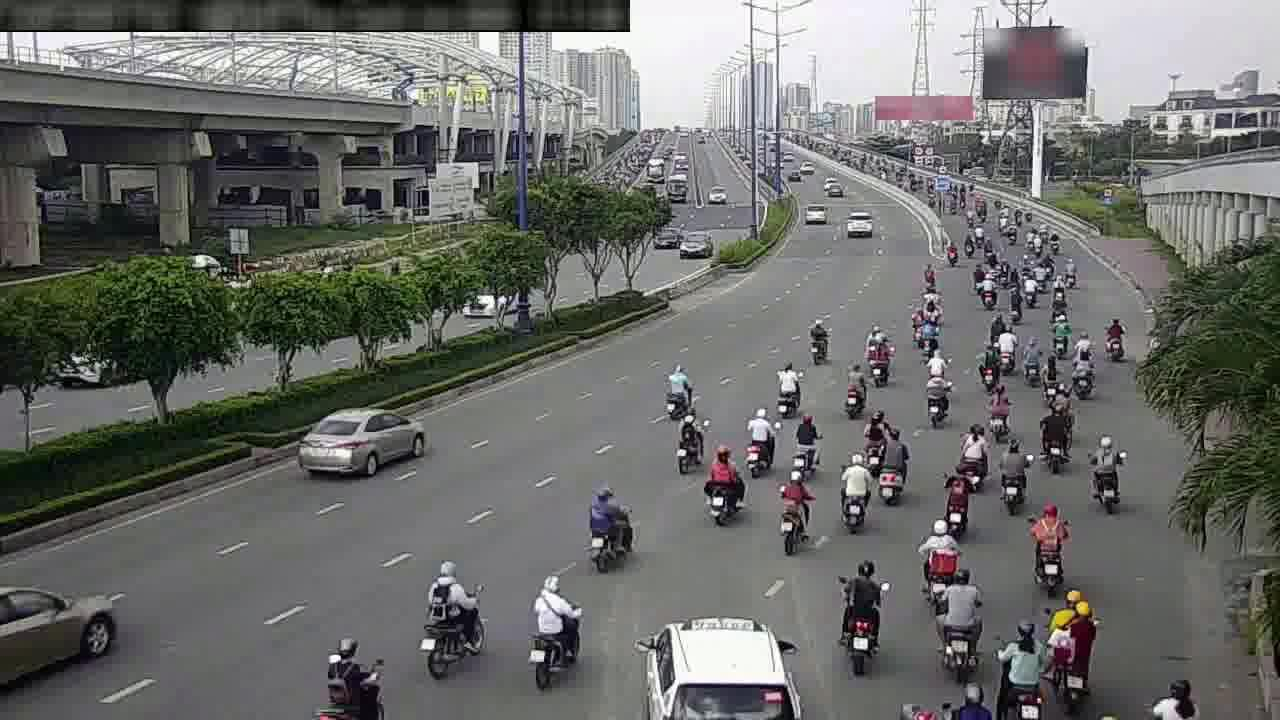container: (1, 569, 124, 695), (652, 618, 788, 720), (303, 393, 424, 477)
motorbike: (416, 560, 491, 672), (522, 574, 587, 679), (1036, 589, 1096, 701), (316, 632, 394, 716), (576, 478, 638, 570), (933, 579, 991, 675), (835, 555, 889, 658), (985, 621, 1046, 711), (1022, 502, 1071, 586), (697, 446, 747, 526), (1081, 433, 1131, 513), (914, 521, 960, 606), (869, 427, 913, 503), (665, 406, 708, 477), (736, 408, 779, 476), (934, 469, 975, 535), (1039, 399, 1076, 472), (784, 408, 823, 475), (952, 421, 992, 486), (998, 439, 1032, 514), (776, 471, 806, 554), (655, 361, 695, 421), (767, 357, 806, 417), (842, 458, 871, 533), (855, 408, 893, 464), (800, 315, 835, 368), (983, 379, 1015, 436), (841, 360, 871, 417), (1018, 336, 1048, 387), (1107, 311, 1133, 368), (992, 327, 1021, 375), (1047, 311, 1075, 355), (925, 377, 948, 428), (977, 343, 1004, 386), (1038, 360, 1061, 410), (871, 339, 892, 390), (1071, 352, 1092, 402), (974, 272, 999, 313), (923, 342, 947, 382), (1048, 272, 1071, 308), (1006, 280, 1025, 323), (921, 313, 939, 358), (988, 301, 1007, 342), (1021, 270, 1039, 310), (862, 318, 880, 358), (907, 307, 925, 345), (921, 283, 938, 322), (921, 256, 936, 288)
